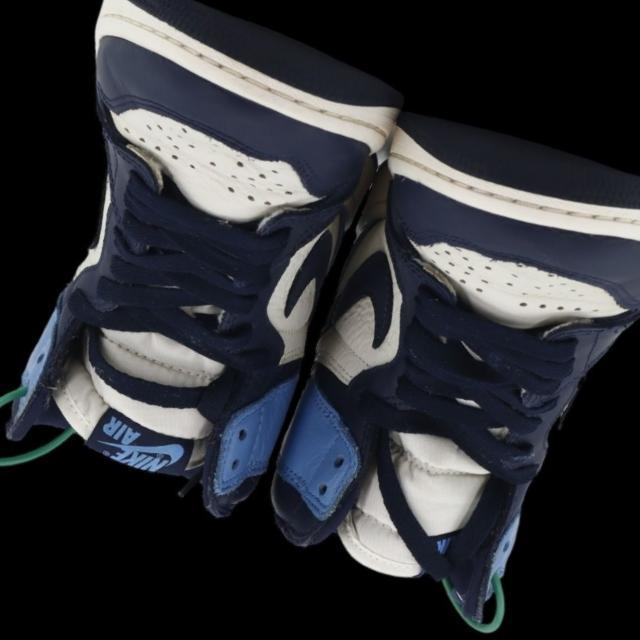nike original jordan 1: (226, 88, 640, 640), (0, 0, 420, 538)
